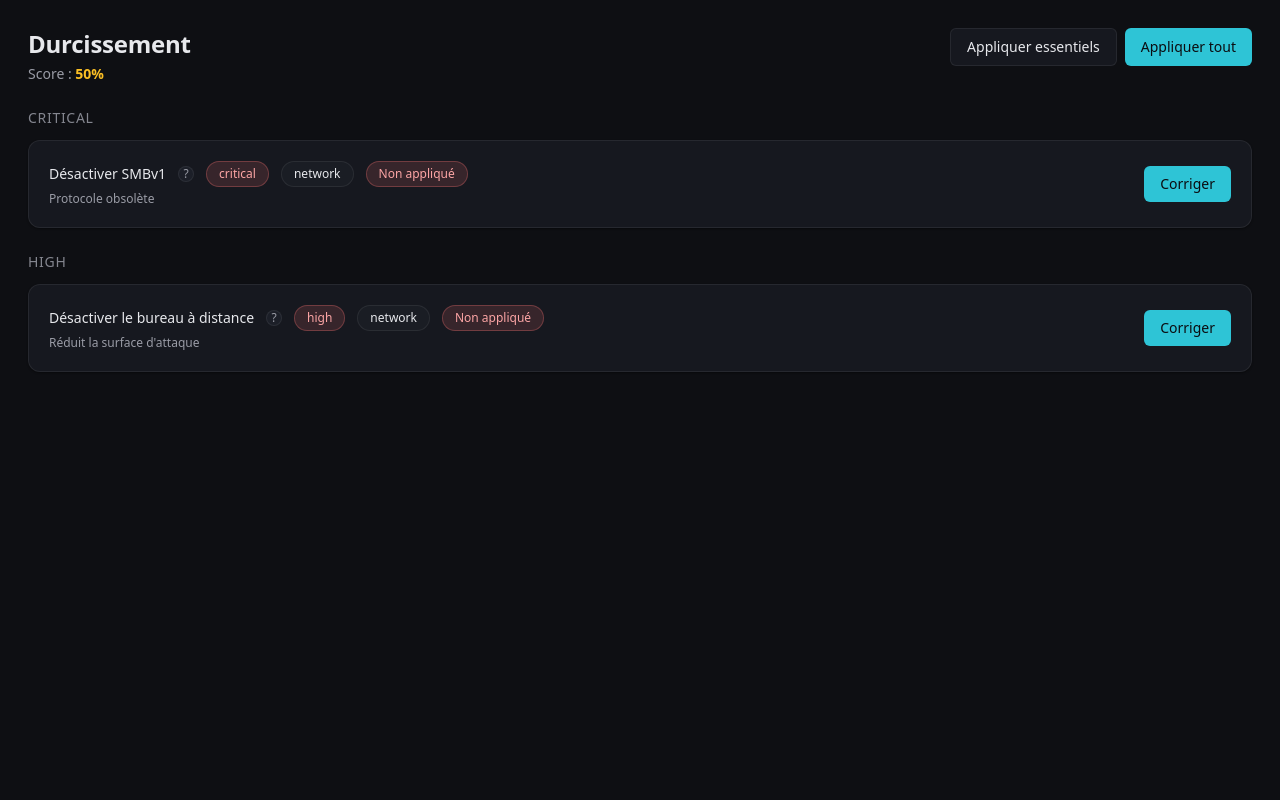
HardeningPage batch actions › takes a registry snapshot before applying the essential corrections
Expected: the text "Désactiver SMBv1" is shown, [49, 164, 166, 184]
Click the button "Appliquer essentiels" at (1033, 47), box [950, 28, 1117, 66]
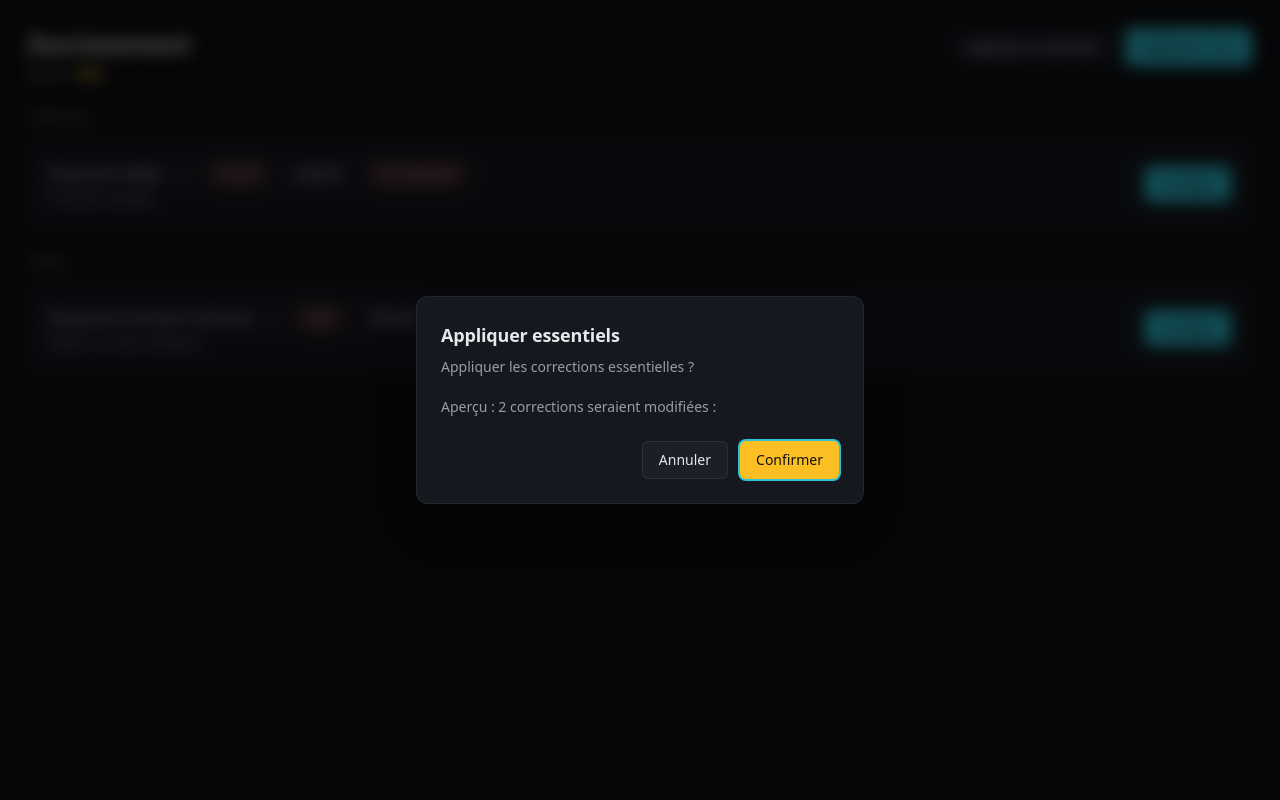
Click the button "Confirmer" at (790, 460), box [740, 441, 839, 479]
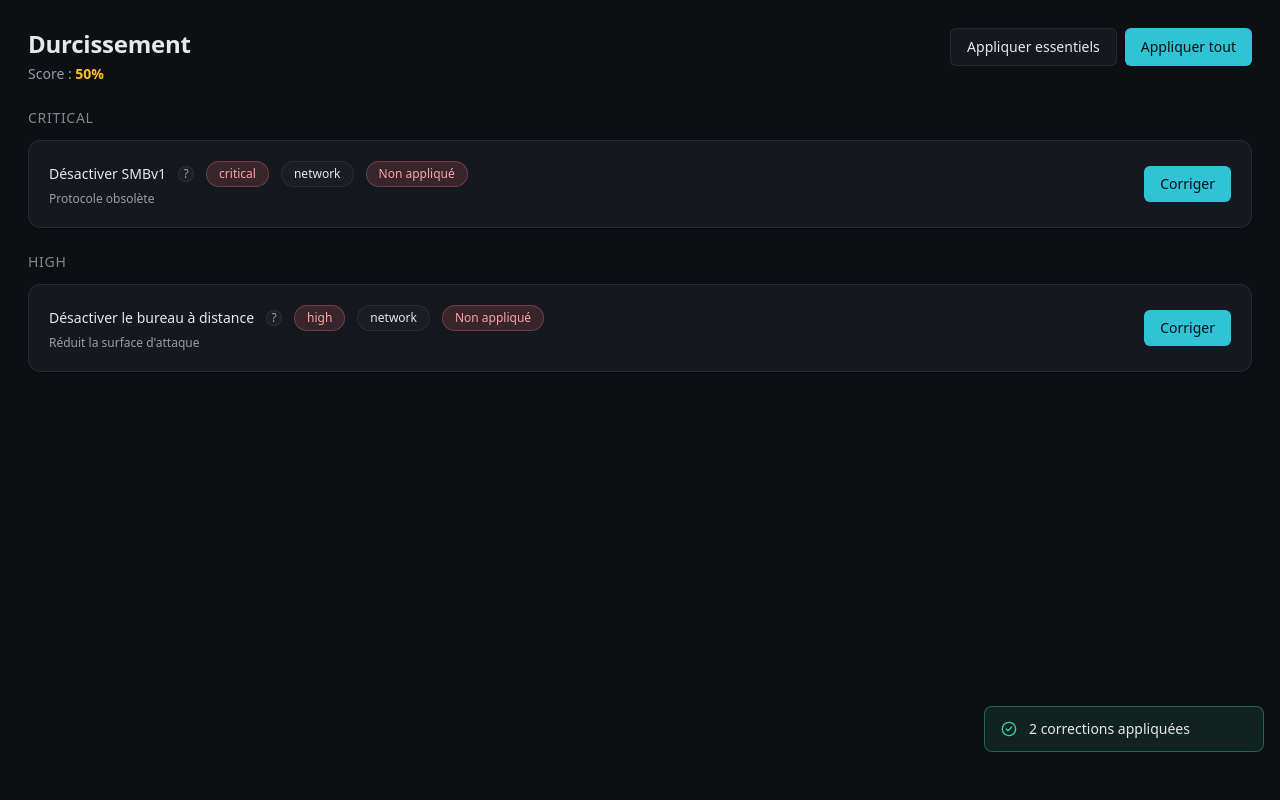
Now the text "2 corrections appliquées" is shown, box [1029, 719, 1190, 738]
